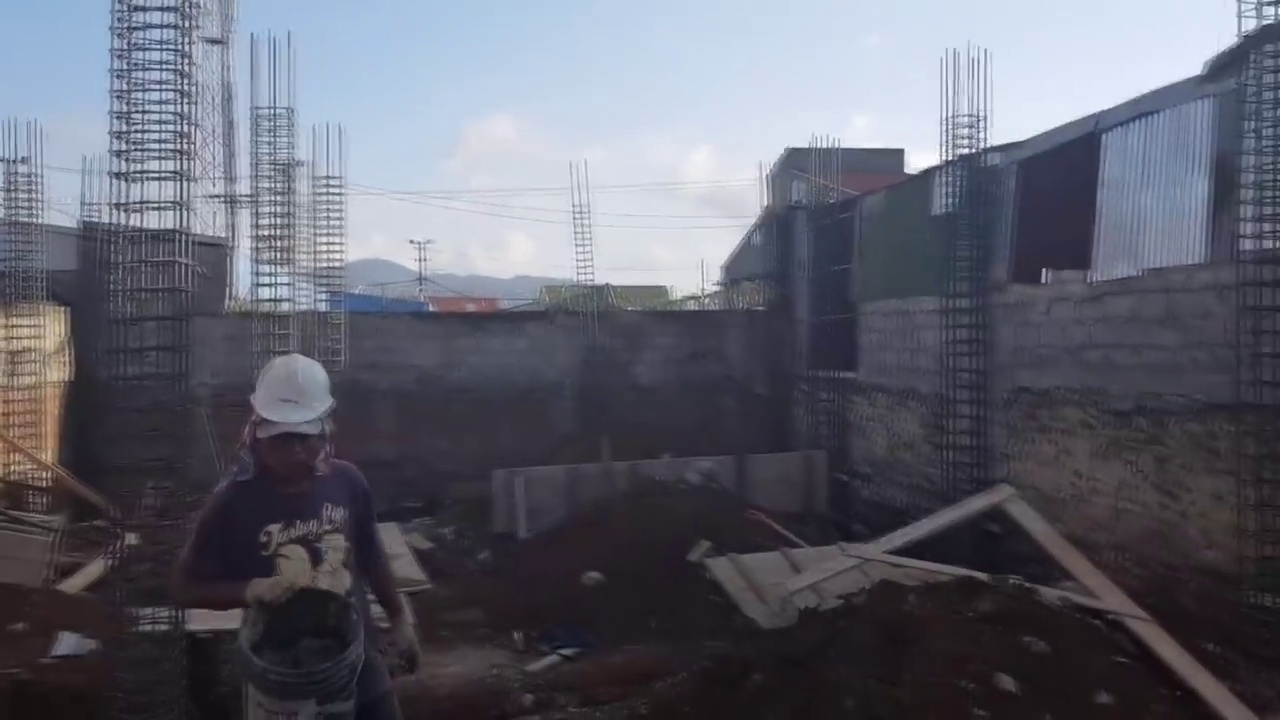helmet: (246, 353, 335, 432)
helmet-on: (237, 348, 334, 490)
person: (173, 344, 412, 691)
